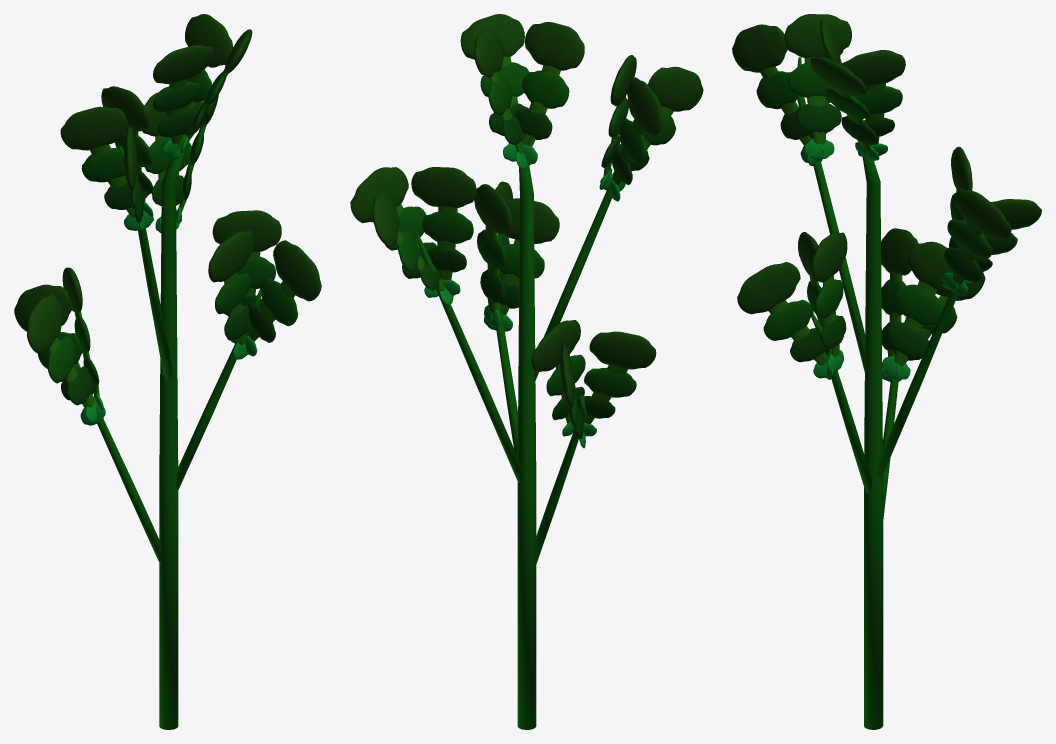
Rendered from dustycp.glb.
3 renders of one model, left to right at view 1: azimuth 30°, elevation 25°; view 2: azimuth 150°, elevation 25°; view 3: azimuth 270°, elevation 25°, orthographic.
Parts seen in each view (by area): view 1: Cylinder; view 2: Cylinder; view 3: Cylinder.
Part boxes in pixels (<box>): Cylinder: <box>14,14,321,729</box>; Cylinder: <box>350,14,703,729</box>; Cylinder: <box>732,14,1041,729</box>.
Size of the model in its own units: 1.76 by 4.71 by 1.89.
